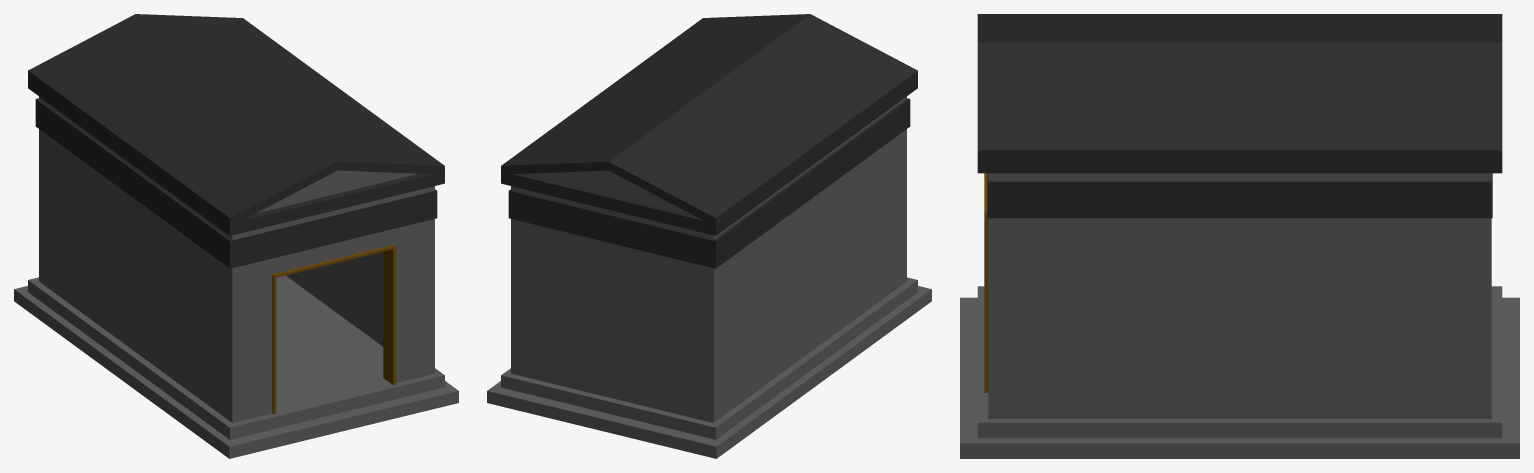
Rendered from FreeStandingBuilding.fbx.
The picture shows the model from 3 angles, left to right: view 1: azimuth 30°, elevation 25°; view 2: azimuth 150°, elevation 25°; view 3: azimuth 270°, elevation 25°; orthographic projection. The views are drawn at different scales.
Visible parts, largest first — view 1: Roof, Walls.001, Floor, Floor.001, Floor.002, DoorFrame; view 2: Walls.001, Roof, Floor.001, Floor.002, Floor; view 3: Walls.001, Roof, Floor.001, Floor.002, Floor, DoorFrame.
Part boxes in pixels (bbox=[...]): Roof: bbox=[28, 14, 444, 235]; Walls.001: bbox=[39, 96, 434, 422]; Floor: bbox=[28, 275, 444, 439]; Floor.001: bbox=[35, 98, 437, 268]; Floor.002: bbox=[14, 286, 458, 458]; DoorFrame: bbox=[272, 245, 395, 414]; Walls.001: bbox=[511, 96, 906, 422]; Roof: bbox=[501, 14, 917, 235]; Floor.001: bbox=[508, 98, 910, 268]; Floor.002: bbox=[487, 286, 931, 458]; Floor: bbox=[501, 277, 917, 439]; Walls.001: bbox=[988, 173, 1491, 418]; Roof: bbox=[977, 14, 1502, 173]; Floor.001: bbox=[987, 173, 1492, 218]; Floor.002: bbox=[960, 297, 1519, 458]; Floor: bbox=[977, 286, 1502, 438]; DoorFrame: bbox=[984, 173, 988, 392].
Size of the model in its own units: 790 by 870 by 1285.
